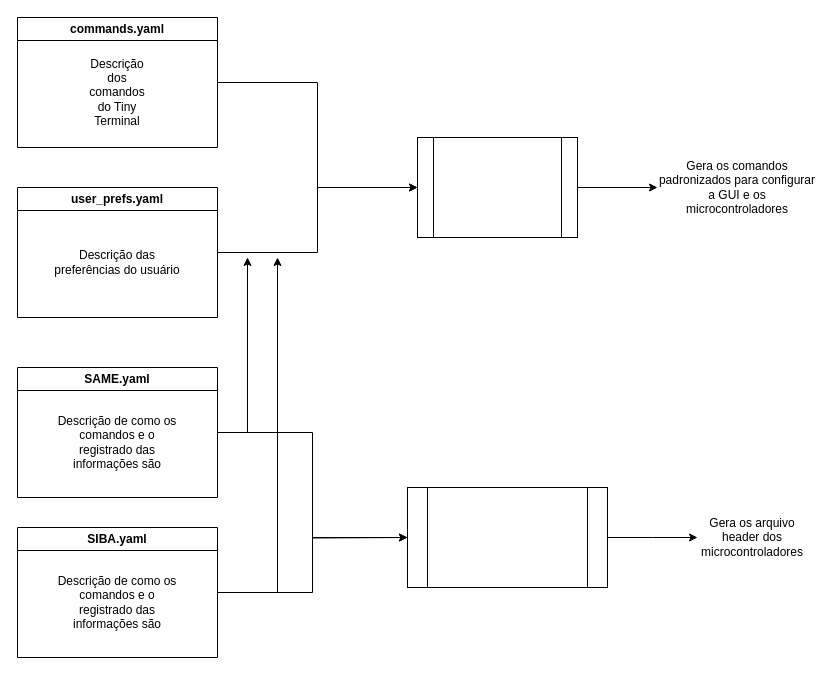
The diagram is 835 pixels wide and 675 high, and some of its shapes have lost their labels. Each missing label, with the centre of its shape:
generate.py: pixel 507 537
GUI: pixel 497 187
